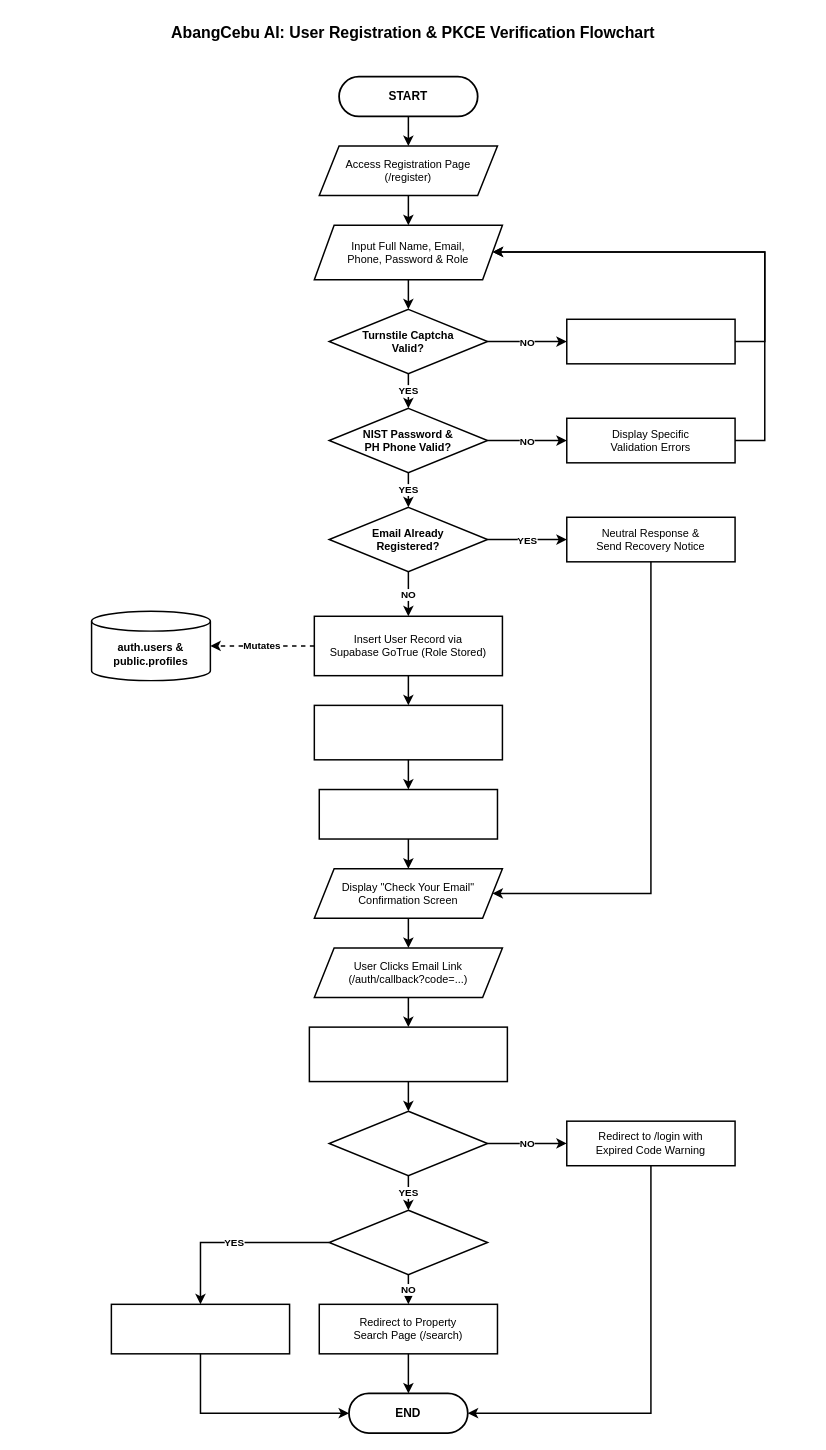
The diagram is 826 pixels wide and 1450 high, and some of its shapes have lost their labels. The shapes that lost their labels are listed below. From the top down, each one's centre as x and y in pixels, then its label:
(650,341): Display Bot Verification Error Toast
(408,732): PostgreSQL Trigger executes handle_new_user() -> profile
(408,813): Dispatch Supabase PKCE Confirmation Email
(408,1054): Route Handler Exchanges PKCE Code via @supabase/ssr
(408,1143): Code Valid & Not Expired?
(408,1242): Registered Role == "landlord"?
(200,1328): Redirect to Landlord Onboarding & Verification
